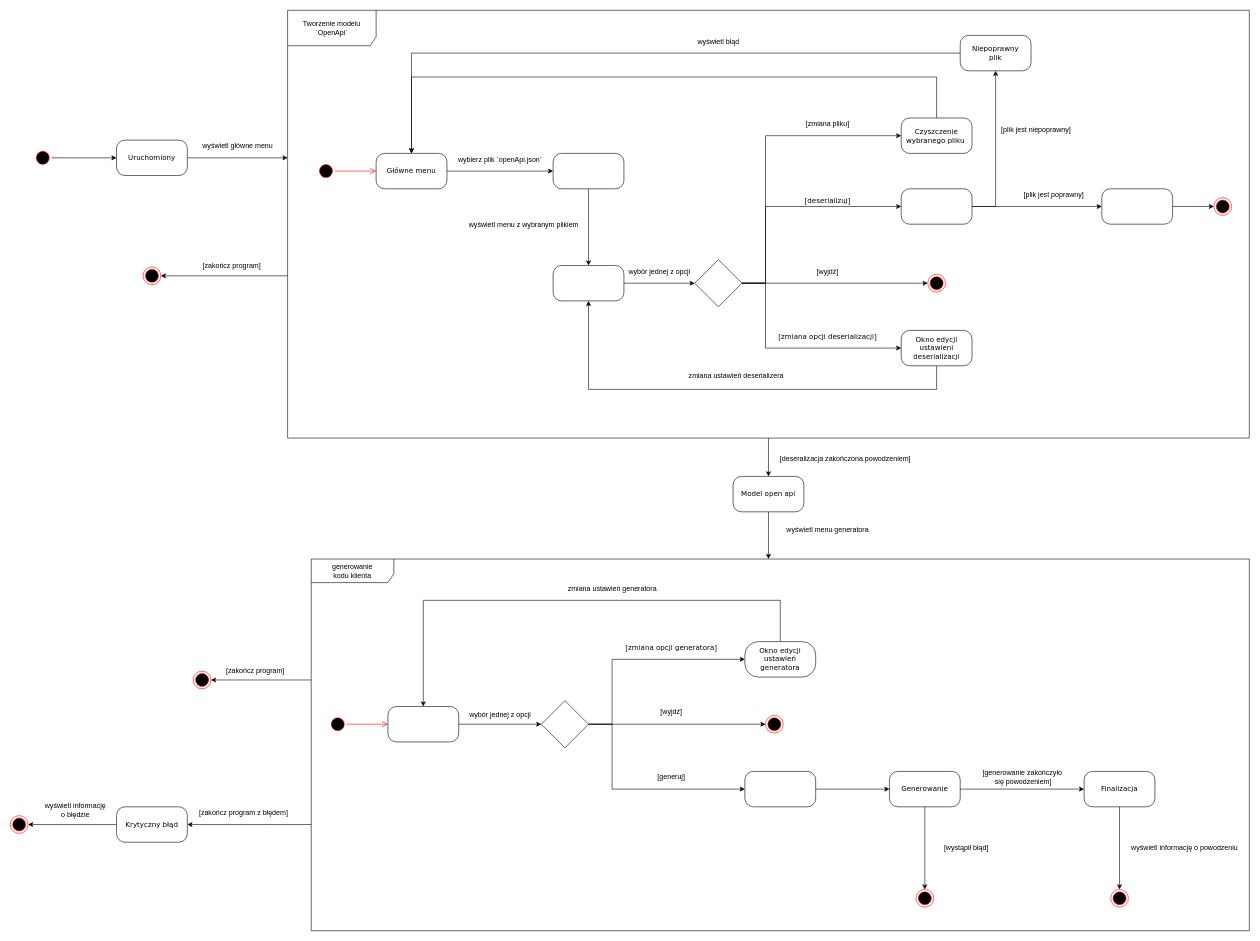
Image size: 1260x941. Some labels were removed from this diagram. Here are the shapes that lost their labels. From the top down, the centre of each, then its label:
point 588,171: Z wybranym plikem do deserializacji
point 936,206: Walidacja pliku
point 1137,206: Deserializacja
point 588,283: Menu z wybranym plikem
point 423,724: Menu z opcjami generatora
point 780,789: Generator stworzony
